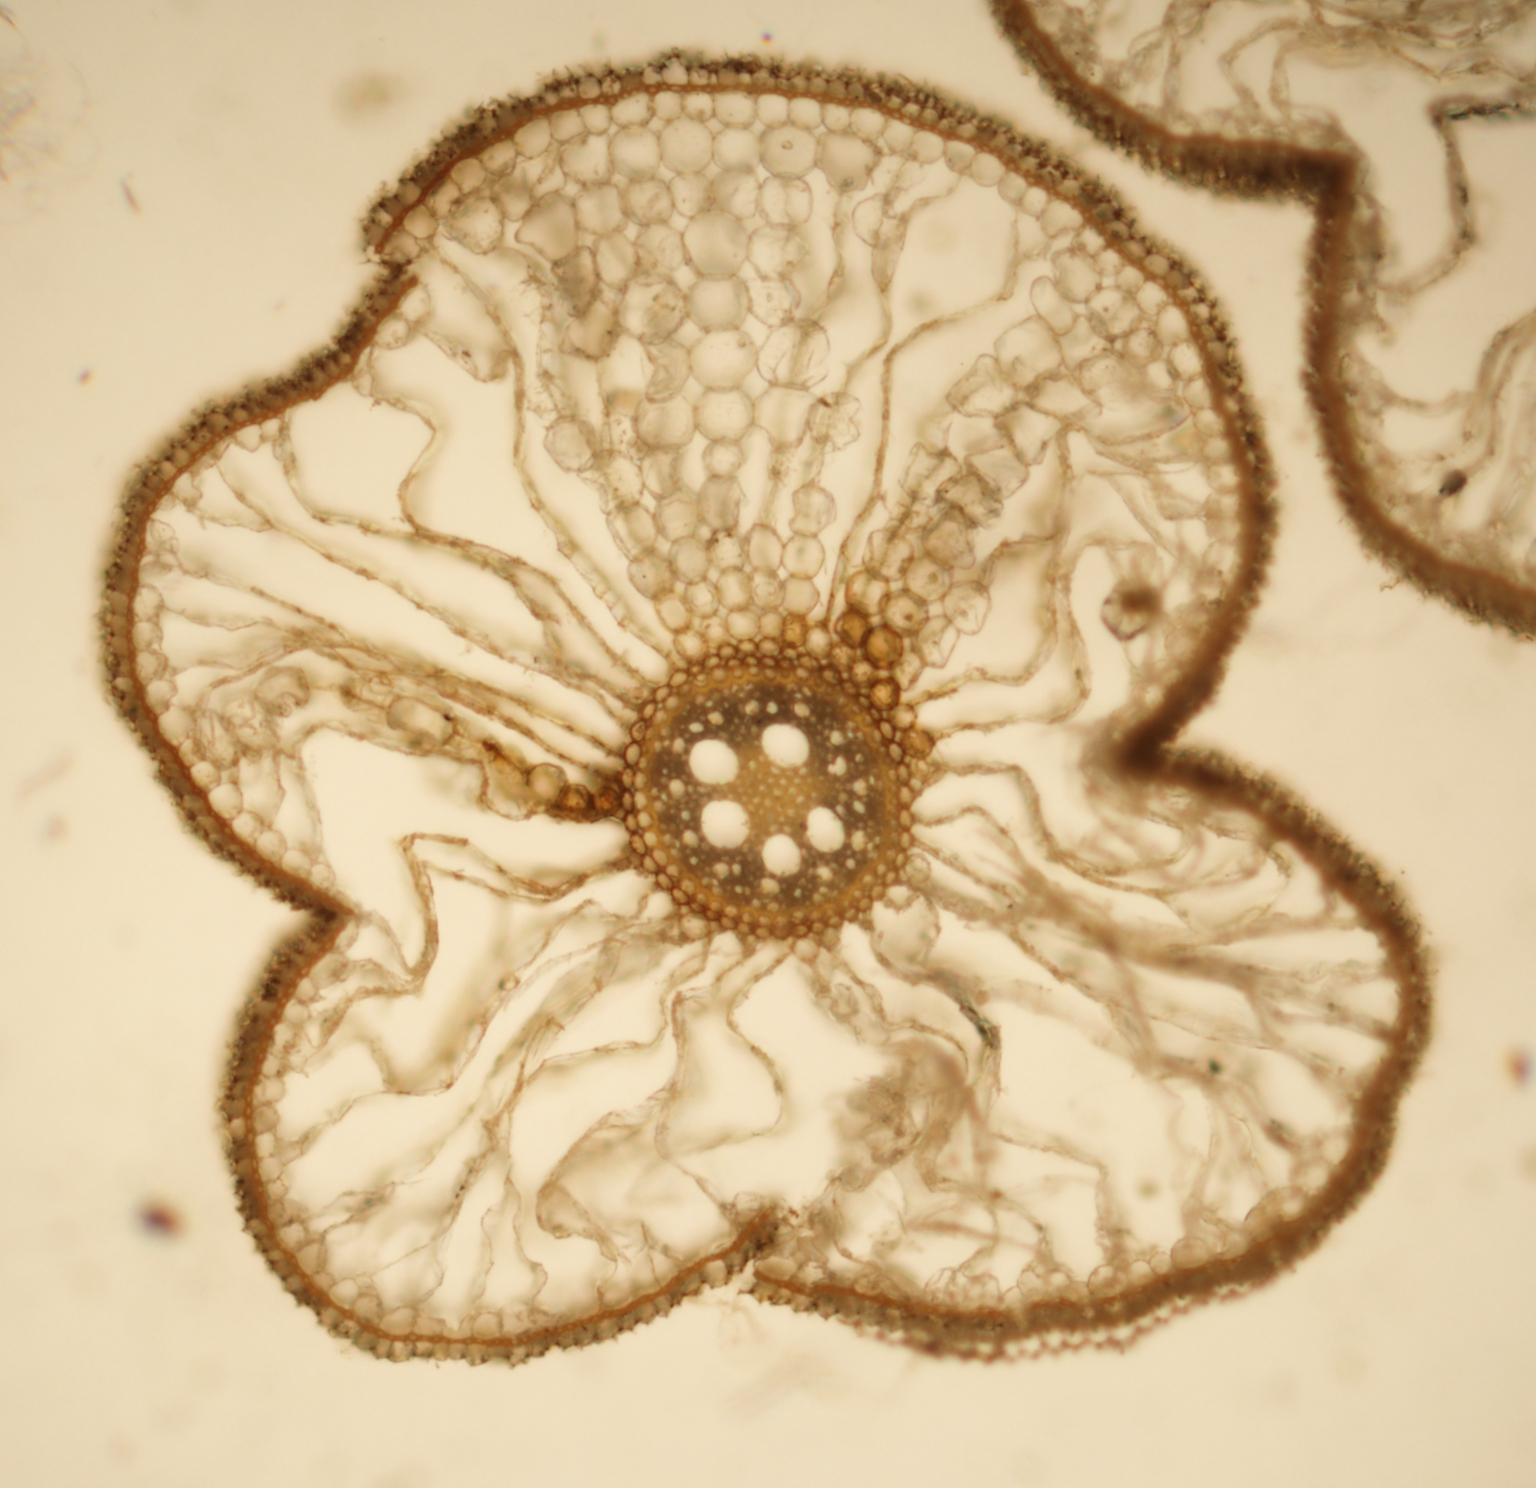lm: (701, 800, 749, 849), (688, 739, 739, 784), (761, 723, 811, 768), (806, 806, 845, 853), (761, 834, 802, 876)
